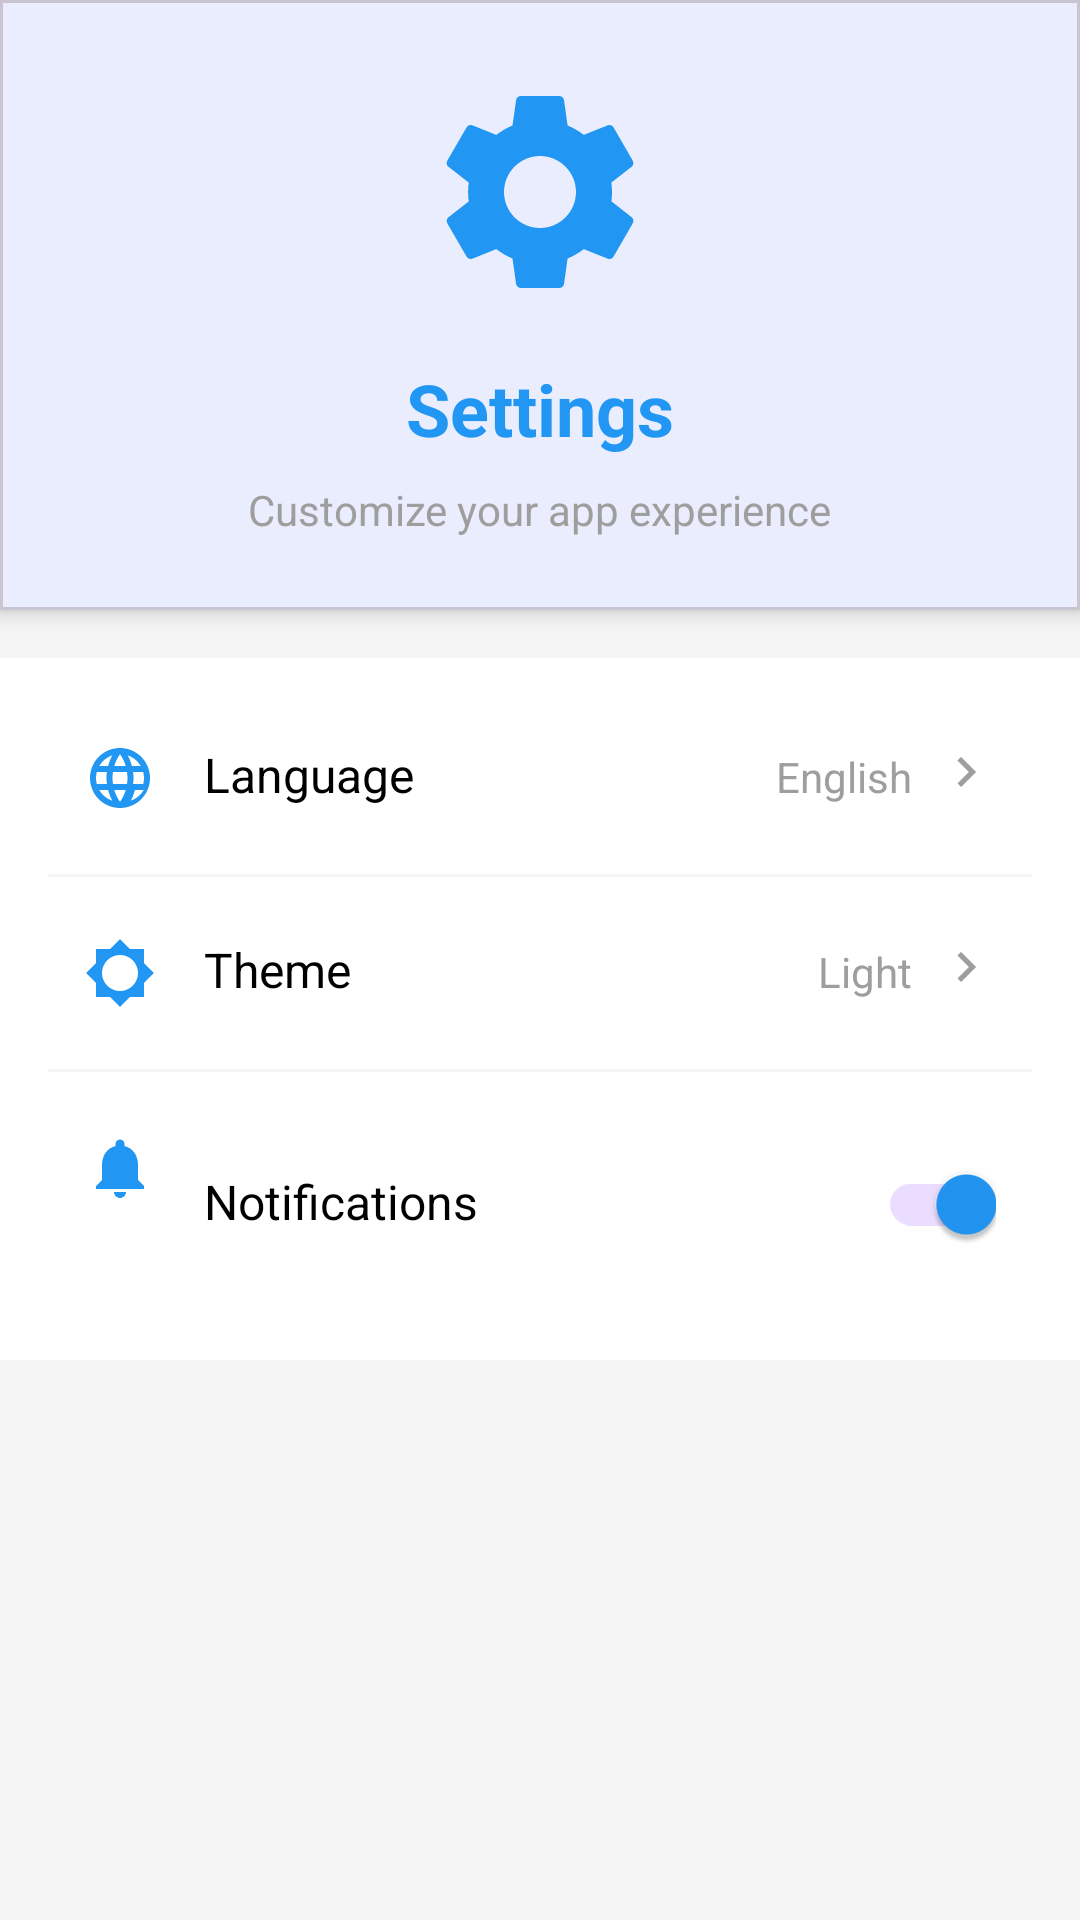

Named icons in this screenshot (1080px x 1920px) and their bounding boxes, (x1, y1, x2, y2):
Arrow: (957, 757, 976, 787), (957, 952, 976, 982)
